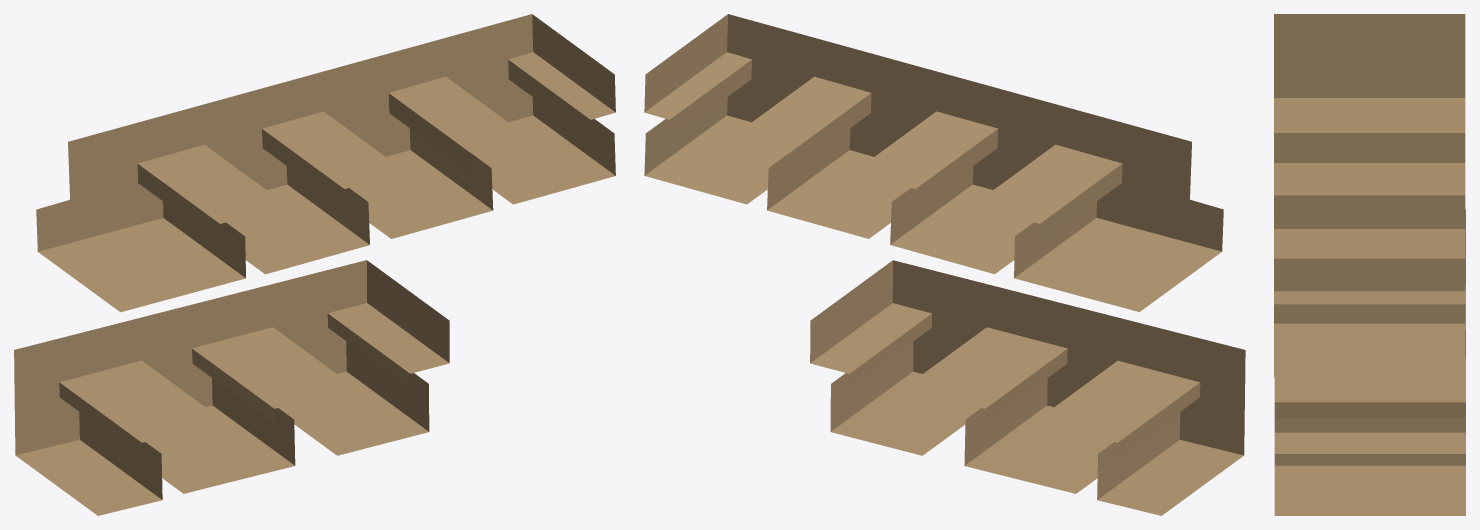
3 renders of one model, left to right at view 1: azimuth 30°, elevation 25°; view 2: azimuth 150°, elevation 25°; view 3: azimuth 270°, elevation 25°, orthographic. The views are drawn at different scales.
Parts seen in each view (by area): view 1: 0_3_2_2_0_3_0; view 2: 0_3_2_2_0_3_0; view 3: 0_3_2_2_0_3_0.
Part boxes in pixels (x1,y1,x2,y2): 0_3_2_2_0_3_0: [14, 14, 615, 515]; 0_3_2_2_0_3_0: [644, 14, 1245, 515]; 0_3_2_2_0_3_0: [1274, 14, 1465, 515].
Size of the model in its own units: 97.85 by 56.85 by 27.06.
